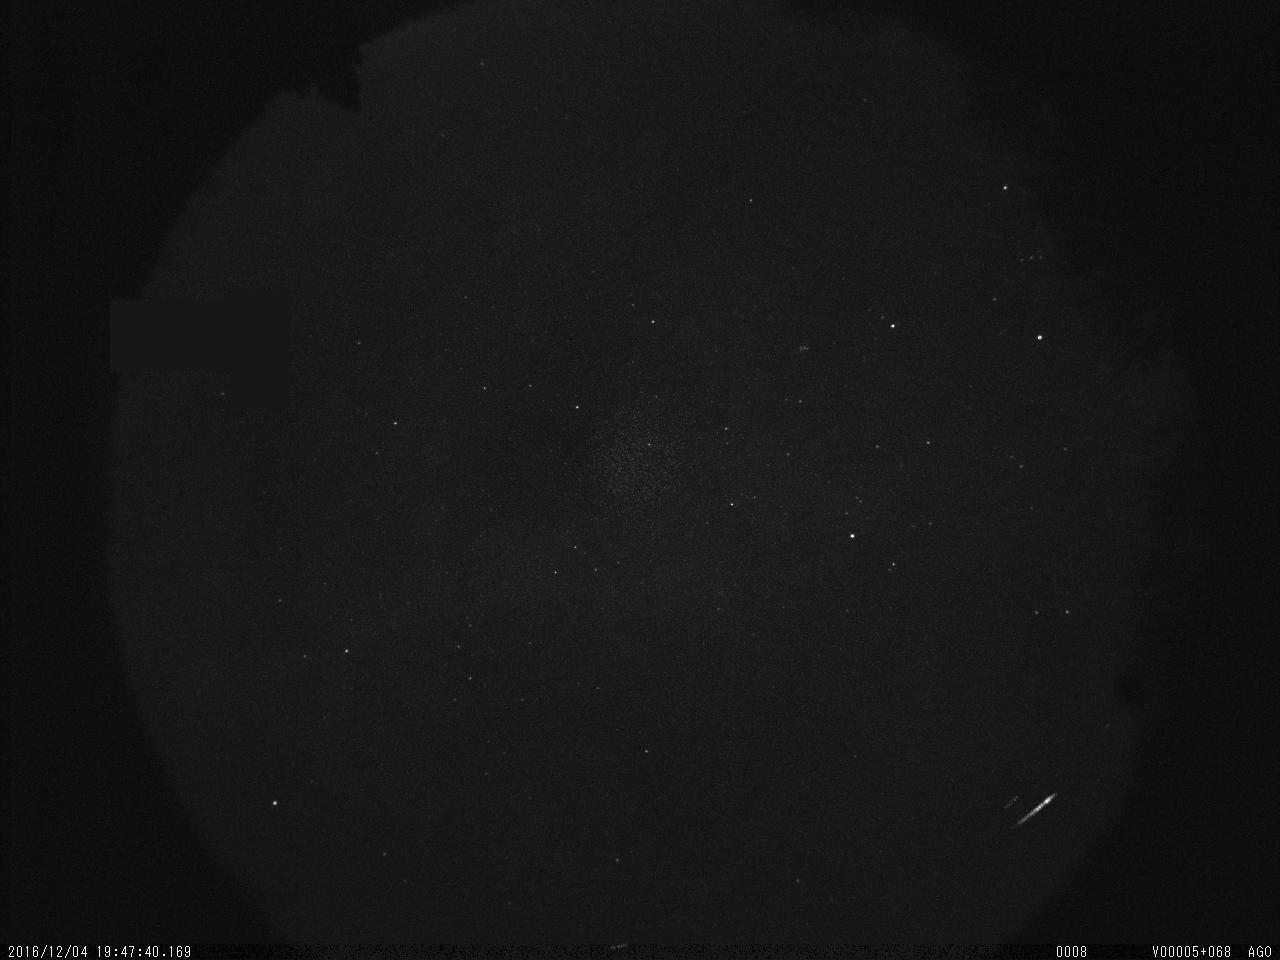meteor: (1026, 786, 1065, 880)
